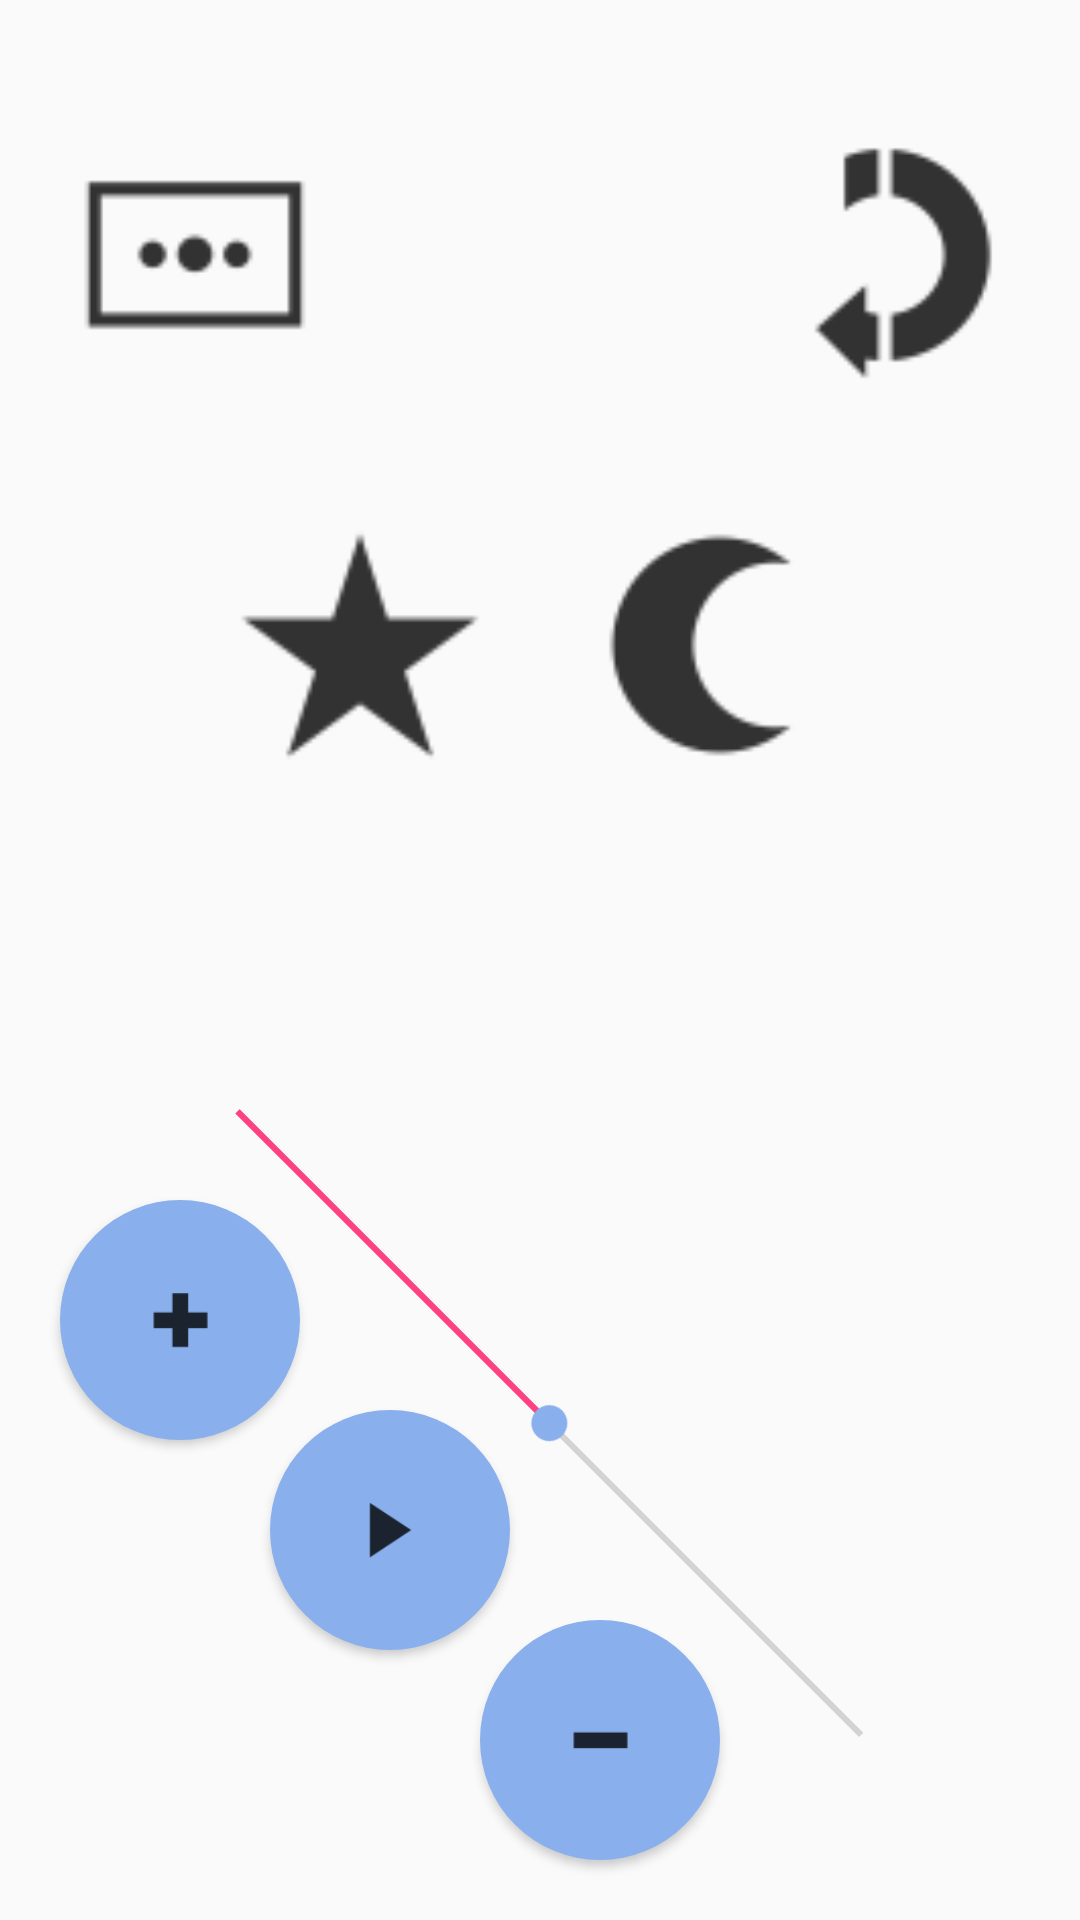

Icons on this 1080w x 1920h Android screen, each with the point to tap as point (x, y):
Channel Plus: point (180, 1320)
favorites: point (360, 645)
nightmode: point (700, 645)
Play / Pause Timeshift: point (390, 1530)
